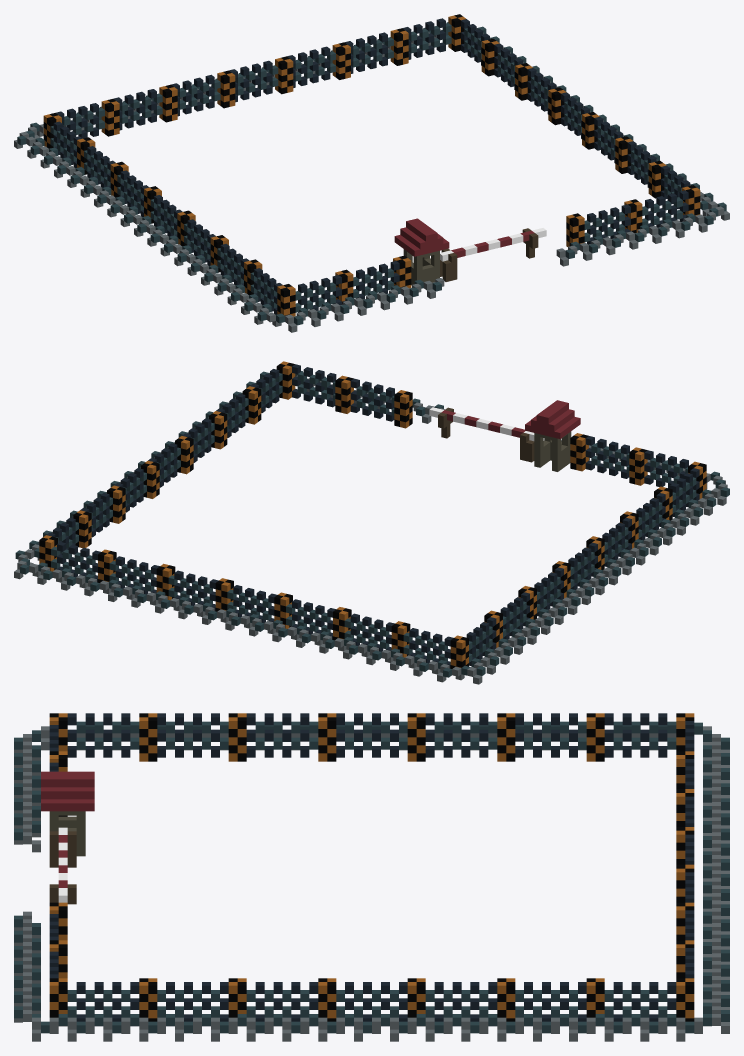
Rendered from wired_fence_overtile.obj.
3 views of the same model, one above another, from view 1: azimuth 30°, elevation 25°; view 2: azimuth 150°, elevation 25°; view 3: azimuth 270°, elevation 25° (orthographic). The views are drawn at different scales.
Size of the model in its own units: 8 by 0.9 by 8.
1 material, 1 textured.
